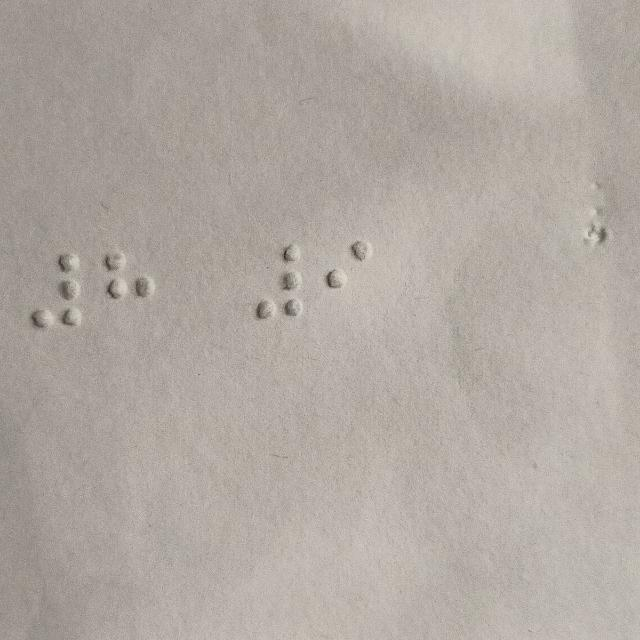digit_8: (103, 248, 160, 329)
digit_9: (319, 237, 376, 318)
number_sign: (26, 250, 83, 331), (251, 240, 308, 321)
